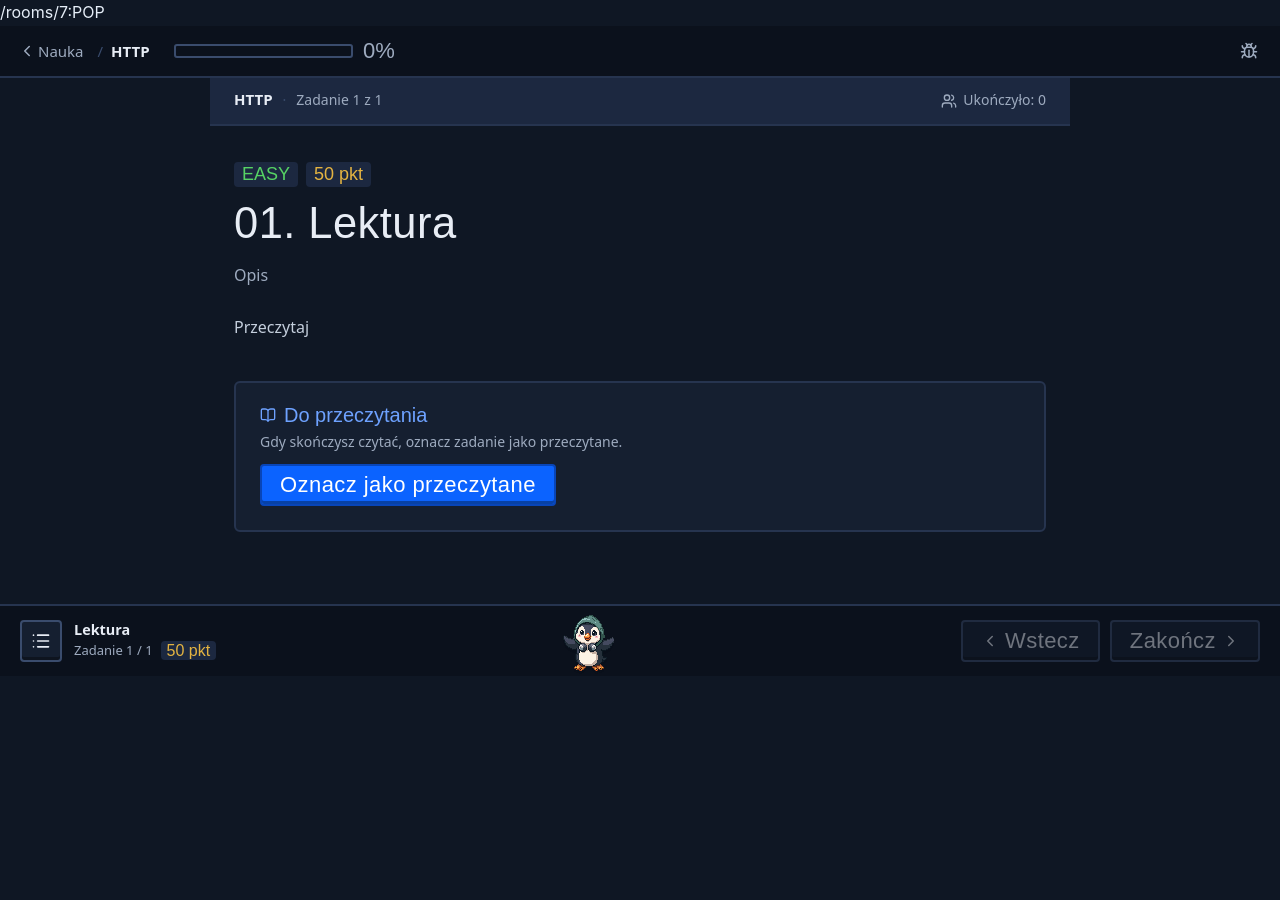
Scenario: task room completion › lets players acknowledge reading tasks without typing an answer
Click the button "Oznacz jako przeczytane": (408, 484) [260,464,556,506]
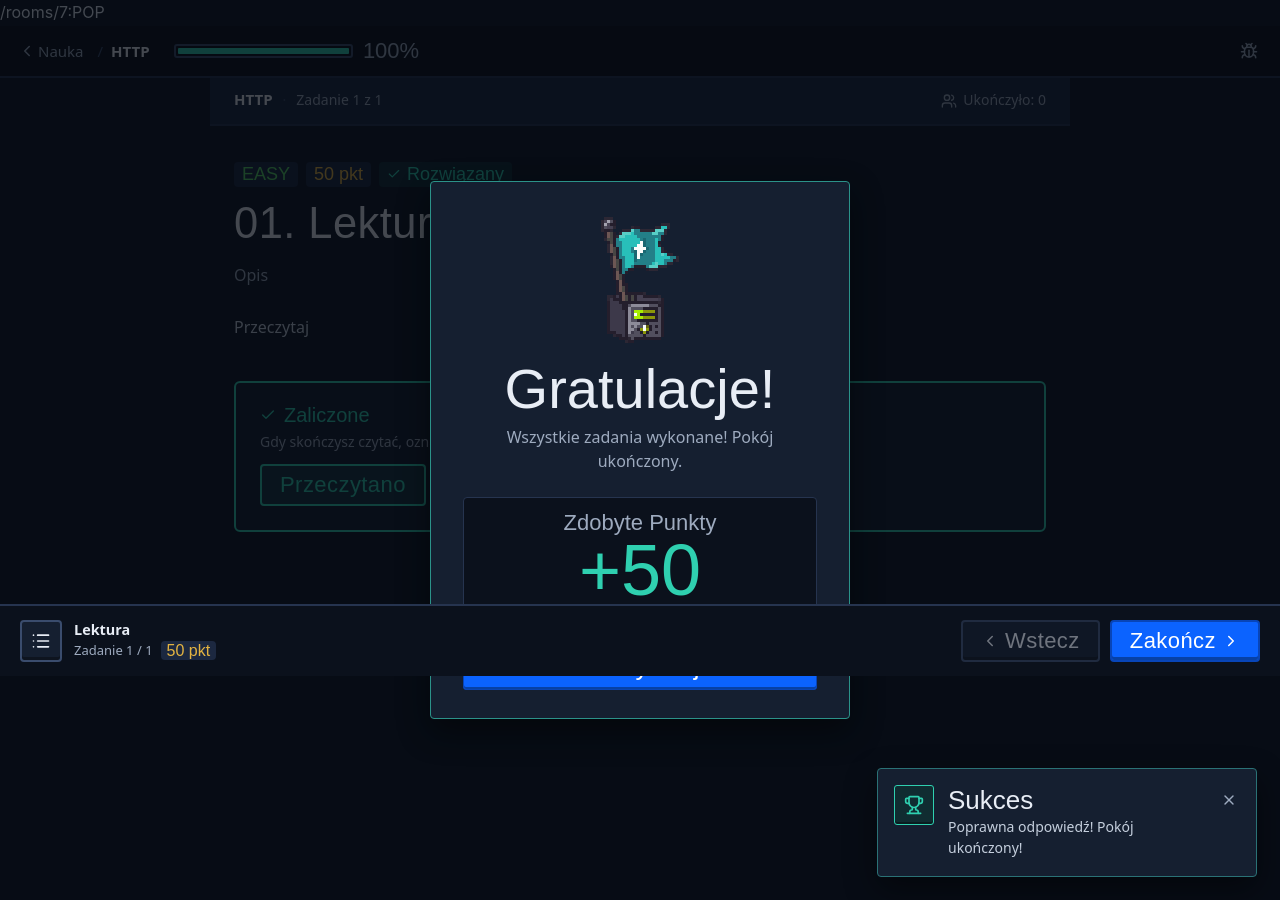
Check: the text "Wszystkie zadania wykonane! Pokój ukończony." is shown, box [507,426,773,472]
Check: the button "Przeczytano" is disabled, box [260,464,426,506]
